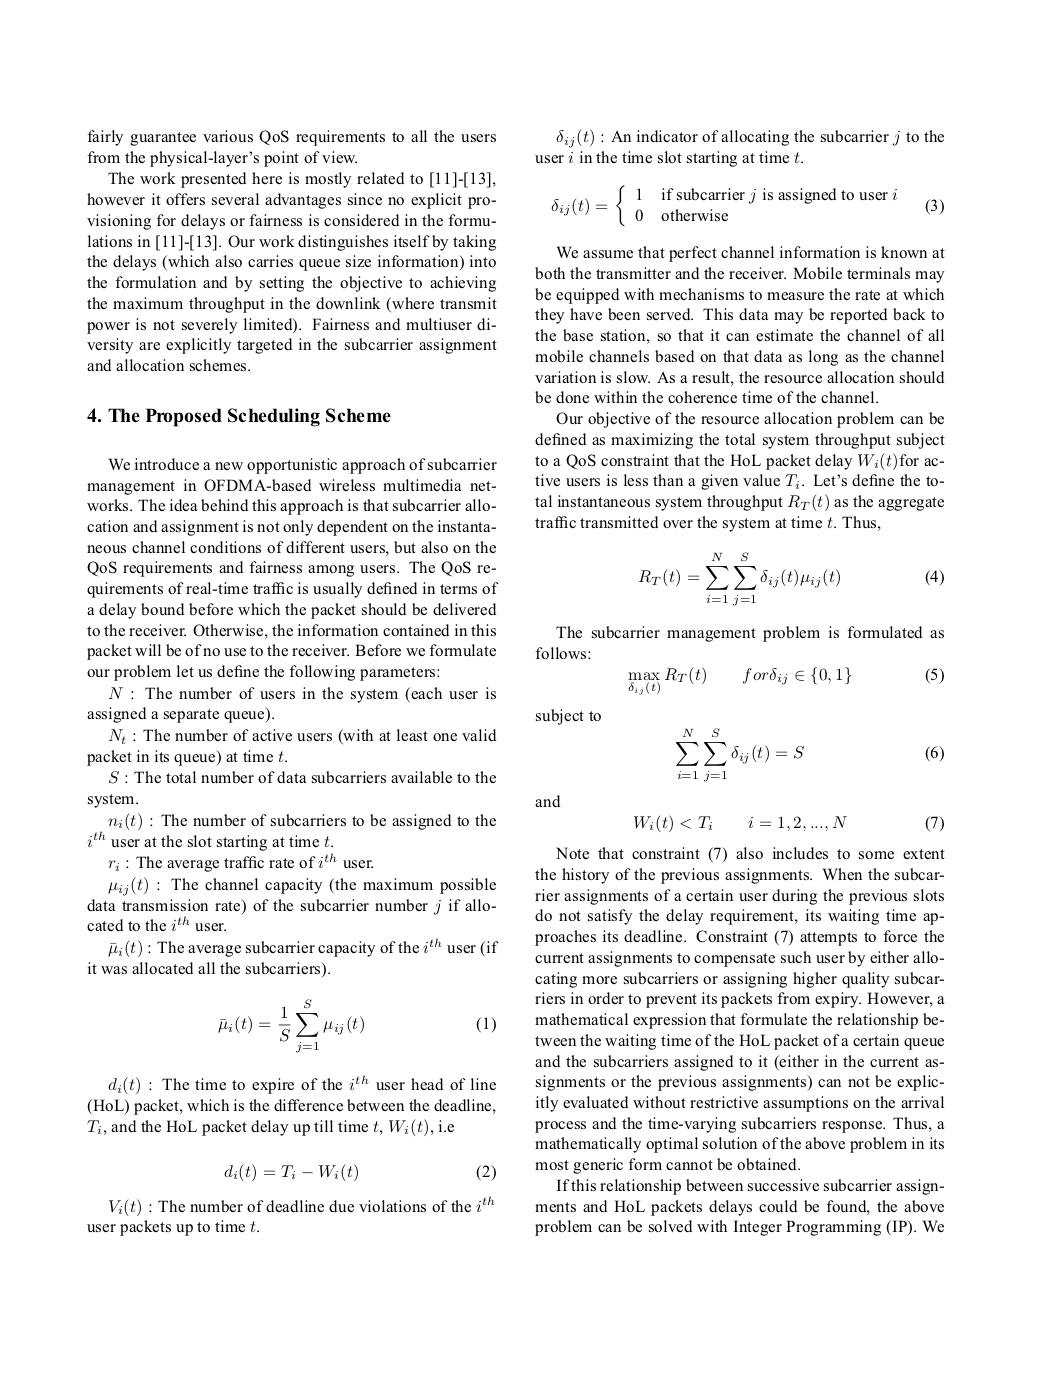formula: (637, 552, 943, 605), (551, 185, 943, 225), (218, 999, 495, 1053), (676, 728, 943, 781), (627, 665, 943, 695), (634, 814, 943, 832), (224, 1163, 495, 1182)
